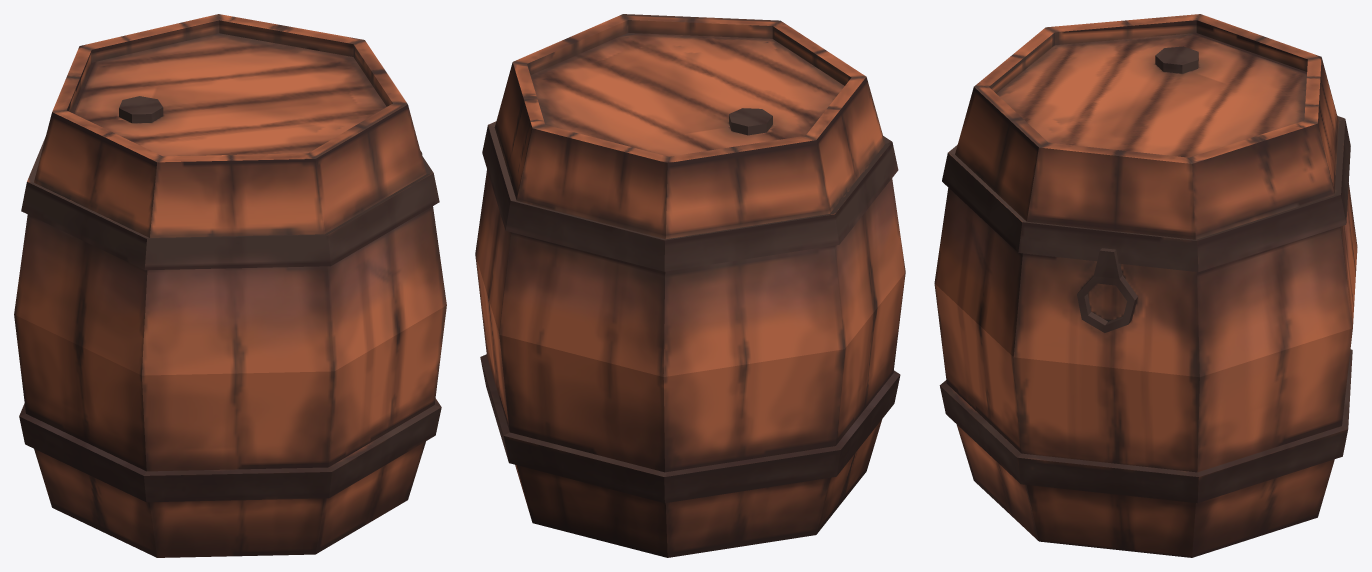
Rendered from ARC0710076.fbx.
The picture shows the model from 3 angles, left to right: view 1: azimuth 30°, elevation 25°; view 2: azimuth 150°, elevation 25°; view 3: azimuth 270°, elevation 25°; orthographic projection.
Visible parts, largest first — view 1: smARC0710076; view 2: smARC0710076; view 3: smARC0710076.
Part boxes in pixels (<box>): smARC0710076: <box>14,14,446,557</box>; smARC0710076: <box>475,14,905,557</box>; smARC0710076: <box>934,14,1357,557</box>.
Bounding box in the file's own units: 76.87 × 77.44 × 75.35.
1 material, 1 textured.
